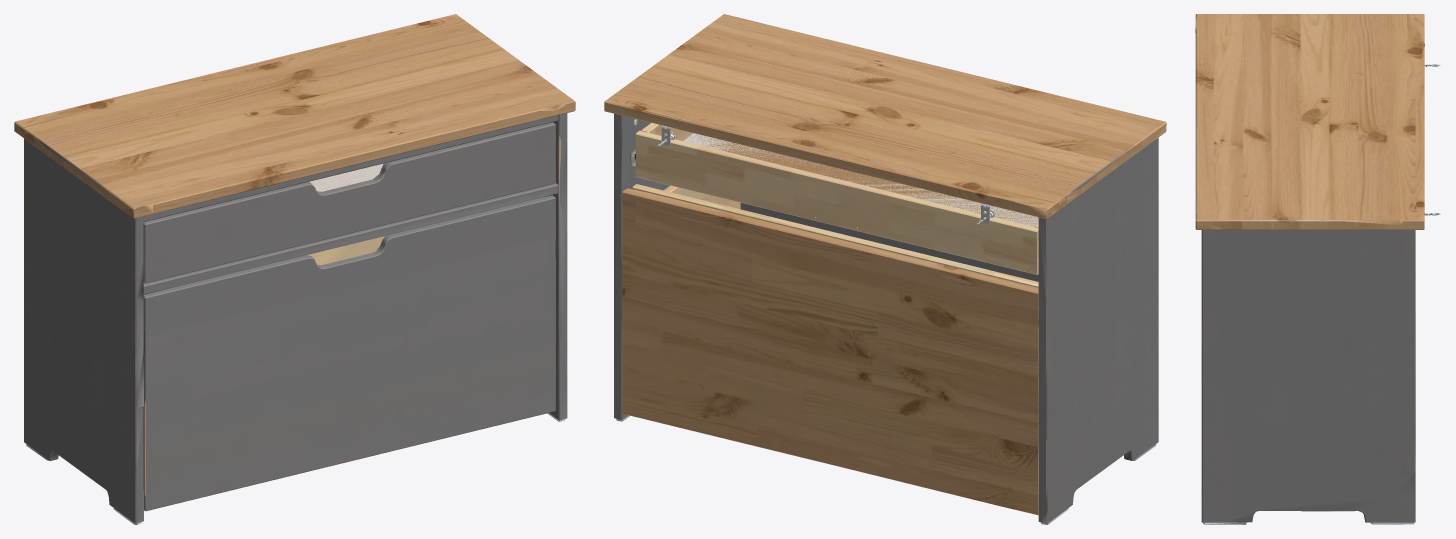
3 views of the same model, side by side, from view 1: azimuth 30°, elevation 25°; view 2: azimuth 150°, elevation 25°; view 3: azimuth 270°, elevation 25° (orthographic). The views are drawn at different scales.
Visible parts, largest first — view 1: ASY_ART_80599325_S01_NV01; view 2: ASY_ART_80599325_S01_NV01; view 3: ASY_ART_80599325_S01_NV01.
Part boxes in pixels (x1,y1,x2,y2): ASY_ART_80599325_S01_NV01: (14,14,575,524); ASY_ART_80599325_S01_NV01: (604,14,1166,524); ASY_ART_80599325_S01_NV01: (1195,14,1440,524).
Size of the model in its own units: 0.8002 by 0.5552 by 0.4024.
10 materials, 10 textured.
